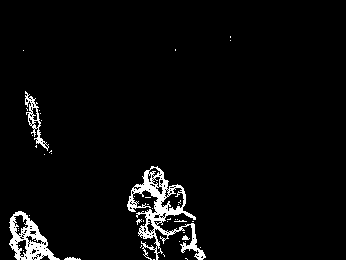person: (132, 168, 163, 259), (16, 89, 55, 156)
